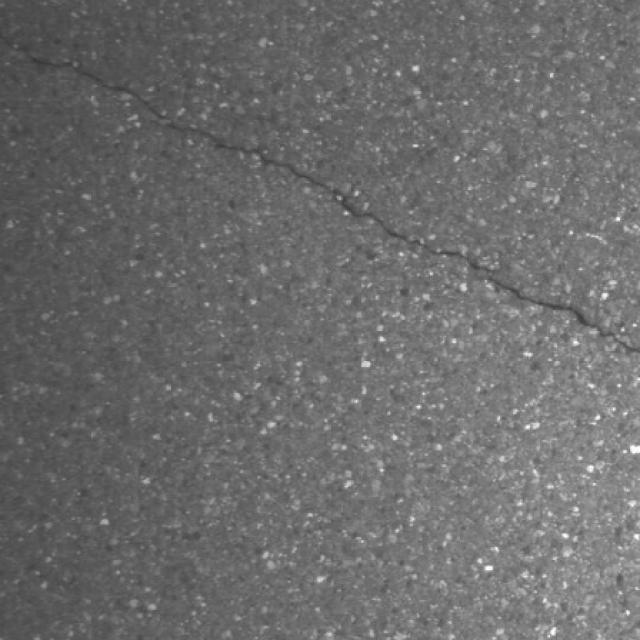Diagonal Crack: (0, 24, 640, 360)
